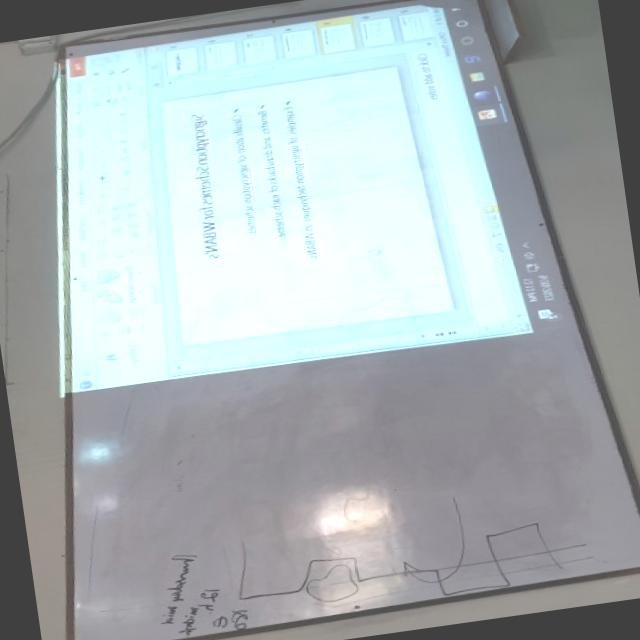Slide: (57, 0, 565, 399)
White-board: (57, 0, 640, 640)
